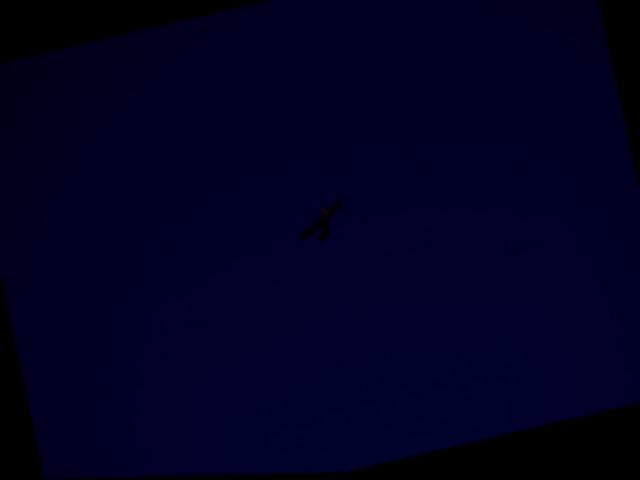iha: (290, 199, 350, 251)
